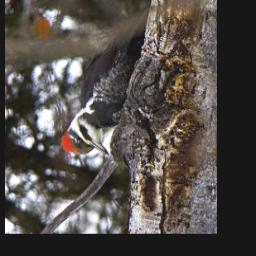Woodpecker: (57, 25, 143, 158)
